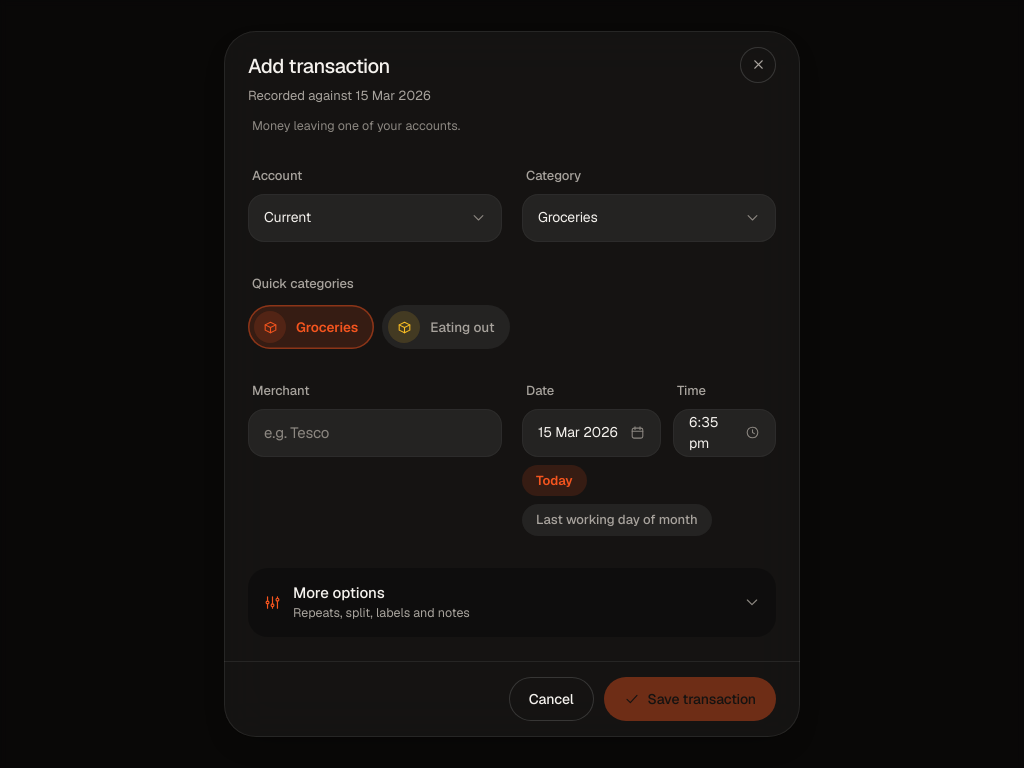
Test: date shortcuts › "Last working day of month" is the last day when that is a weekday
The image size is (1024, 768).
(page scrolled)
Note: March 2026 ends on Tuesday the 31st.
Click the button "Last working day of month".
click(617, 520)  # box left=522, top=504, right=712, bottom=536
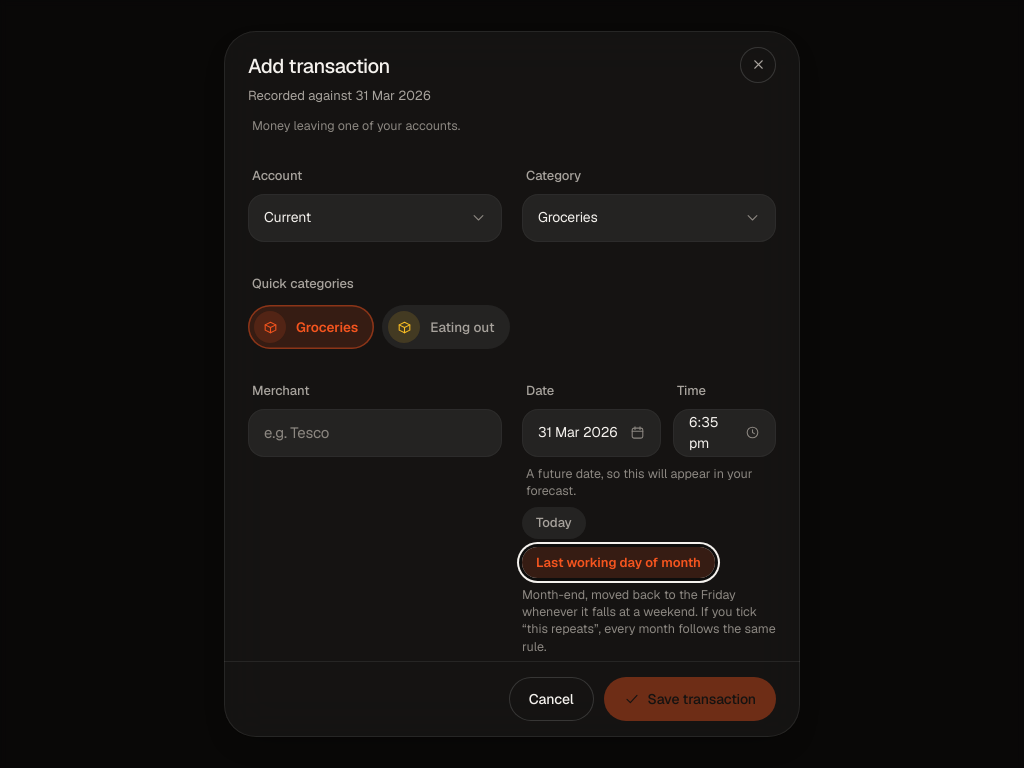
Expected: the text "31 Mar 2026" is shown, left=538, top=422, right=617, bottom=443
